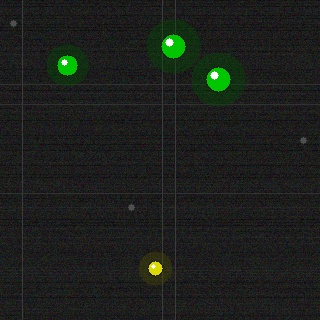green_normal: (204, 65, 232, 93), (159, 32, 187, 60), (55, 53, 79, 77)
yellow_warning: (146, 259, 164, 277)
